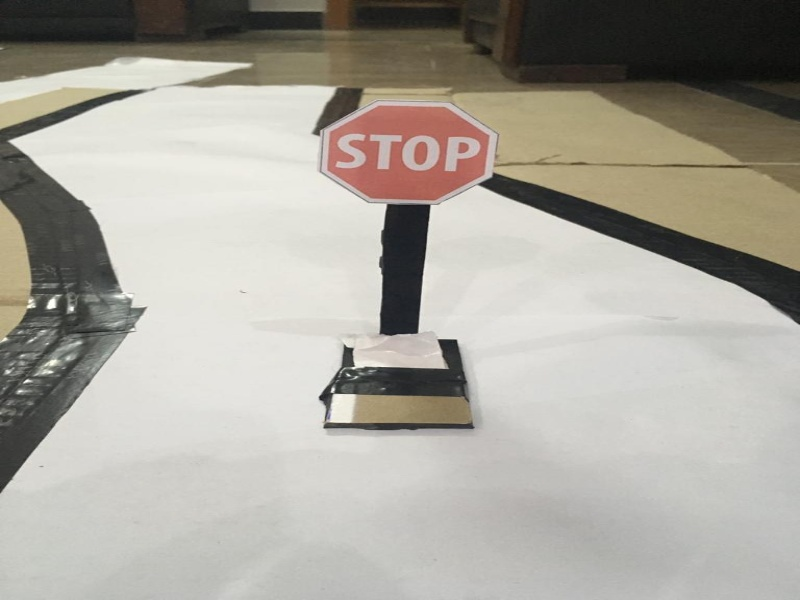Stop: (316, 97, 497, 206)
